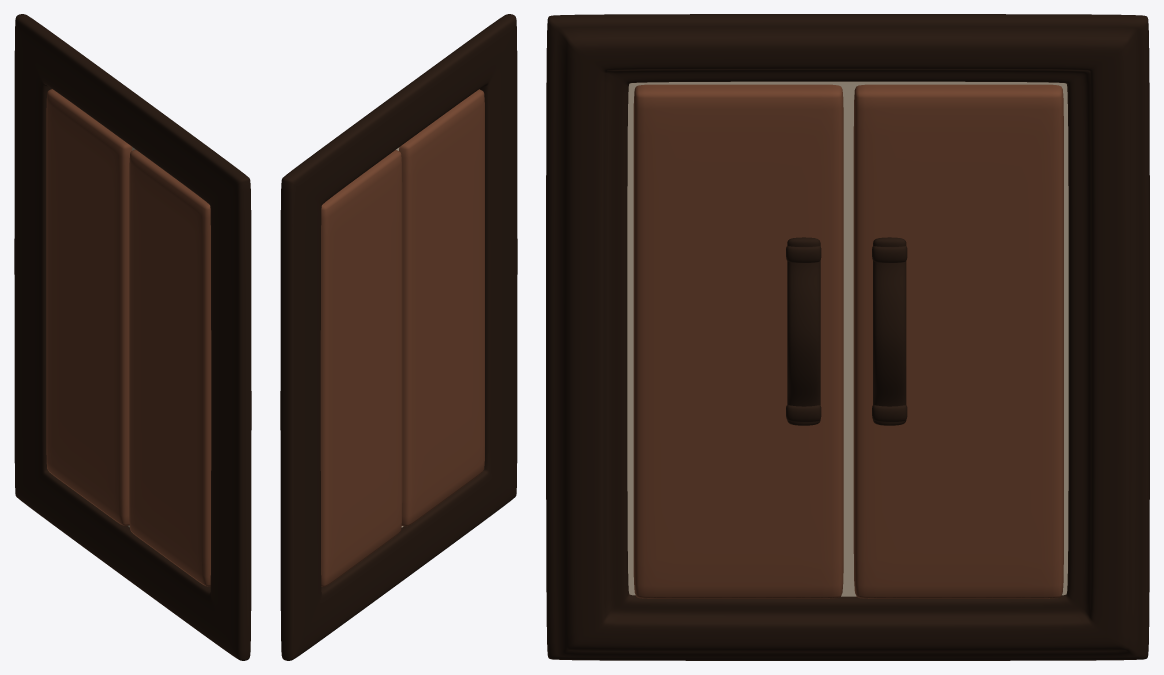
File: wall_cabinet.obj
The picture shows the model from 3 angles, left to right: view 1: azimuth 30°, elevation 25°; view 2: azimuth 150°, elevation 25°; view 3: azimuth 270°, elevation 25°; orthographic projection. The views are drawn at different scales.
Parts seen in each view (by area): view 1: Cube.075, Cube.011; view 2: Cube.075, Cube.011; view 3: Cube.075, Cube.011, Cube.065, Plane.038, Plane.037.
Boxes of the visible parts, x1=… form: Cube.075: x1=46, y1=89, x2=211, y2=586; Cube.011: x1=14, y1=14, x2=251, y2=660; Cube.075: x1=320, y1=89, x2=484, y2=586; Cube.011: x1=280, y1=14, x2=517, y2=660; Cube.075: x1=633, y1=84, x2=1063, y2=598; Cube.011: x1=546, y1=14, x2=1149, y2=660; Cube.065: x1=627, y1=81, x2=1068, y2=596; Plane.038: x1=787, y1=237, x2=820, y2=425; Plane.037: x1=873, y1=237, x2=906, y2=425.
Bounding box in the file's own units: 0.201 × 2.24 × 1.91.
